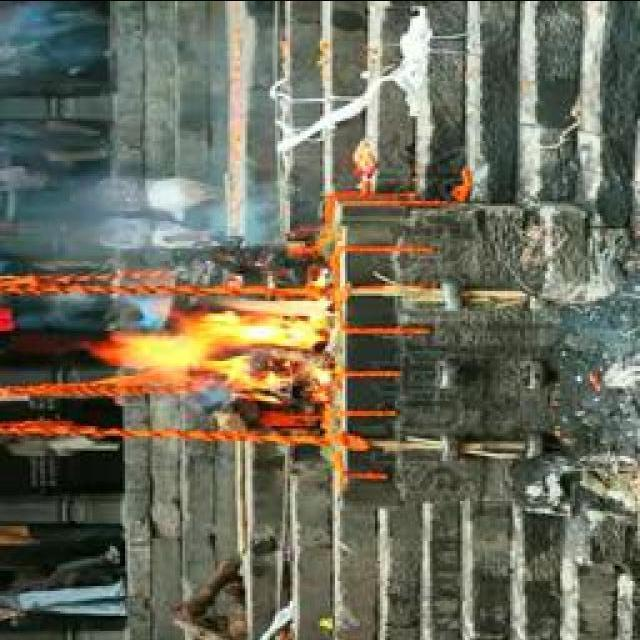Fire: (100, 286, 336, 386)
